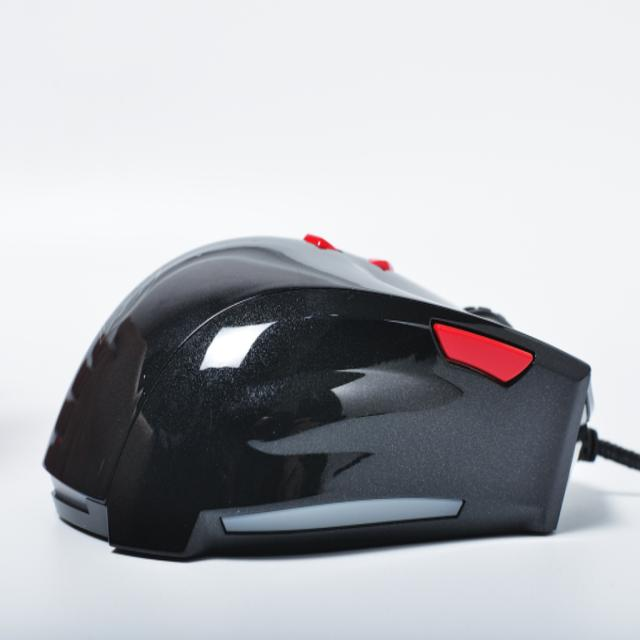Computer-mouse: (39, 227, 591, 559)
